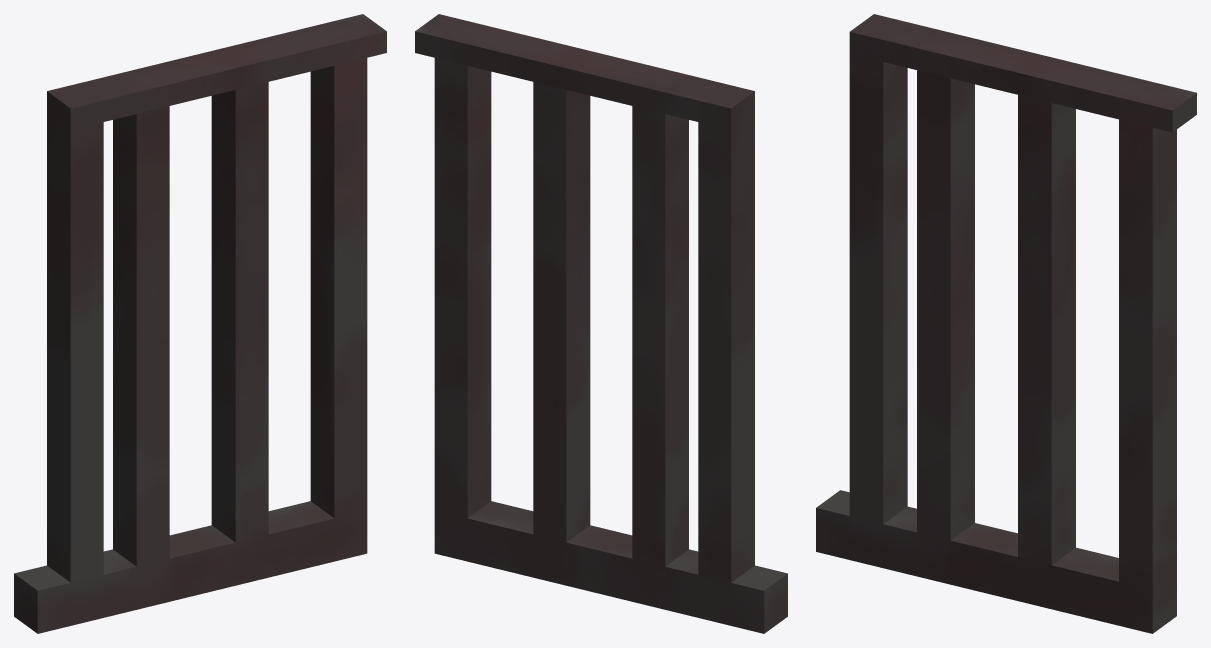
The model's file is fence.gltf.
3 views of the same model, side by side, from view 1: azimuth 30°, elevation 25°; view 2: azimuth 150°, elevation 25°; view 3: azimuth 330°, elevation 25° (orthographic). The views are drawn at different scales.
Visible parts, largest first — view 1: mesh; view 2: mesh; view 3: mesh.
Boxes of the visible parts, x1=… form: mesh: x1=14, y1=14, x2=386, y2=633; mesh: x1=415, y1=14, x2=787, y2=633; mesh: x1=816, y1=14, x2=1196, y2=633.
Bounding box in the file's own units: 1.06 × 1.5 × 0.125.
1 material, 1 textured.
